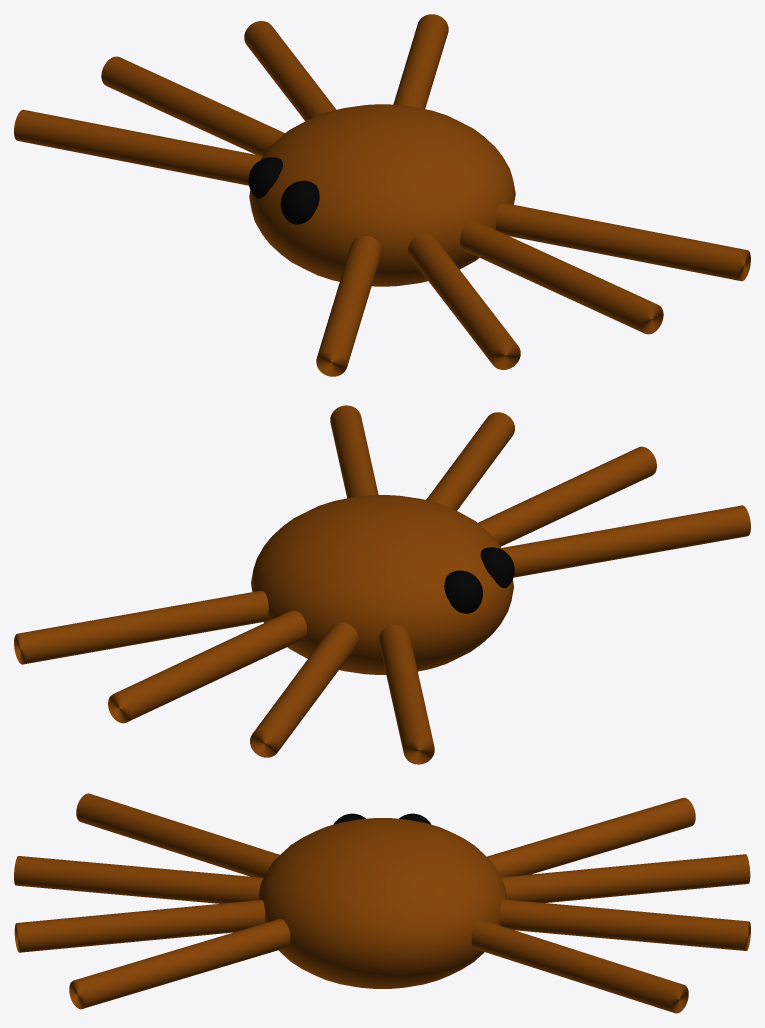
3 renders of one model, top to bottom at view 1: azimuth 30°, elevation 25°; view 2: azimuth 150°, elevation 25°; view 3: azimuth 270°, elevation 25°, orthographic. The views are drawn at different scales.
Parts seen in each view (by area): view 1: Sphere, Cylinder.003, Cylinder.004, Cylinder.002, Cylinder.001, Sphere.002, Sphere.001; view 2: Sphere, Cylinder.001, Cylinder.002, Cylinder.004, Cylinder.003, Sphere.001, Sphere.002; view 3: Sphere, Cylinder.002, Cylinder.004, Cylinder.003, Cylinder.001.
Boxes of the visible parts, box(x1,y1,x2,y2) form: Sphere: box(249, 104, 515, 286); Cylinder.003: box(14, 109, 750, 281); Cylinder.004: box(101, 56, 663, 334); Cylinder.002: box(244, 21, 520, 369); Cylinder.001: box(316, 14, 448, 376); Sphere.002: box(280, 180, 319, 224); Sphere.001: box(248, 157, 282, 198); Sphere: box(251, 495, 513, 674); Cylinder.001: box(14, 505, 750, 664); Cylinder.002: box(108, 446, 656, 723); Cylinder.004: box(250, 412, 514, 757); Cylinder.003: box(330, 405, 434, 764); Sphere.001: box(444, 570, 482, 613); Sphere.002: box(480, 547, 514, 587); Sphere: box(258, 818, 506, 988); Cylinder.002: box(14, 856, 750, 950); Cylinder.004: box(14, 854, 750, 952); Cylinder.003: box(69, 797, 695, 1009); Cylinder.001: box(76, 793, 688, 1013).
Size of the model in its own units: 1.27 by 0.4 by 1.97.
